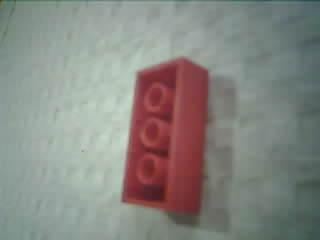lego: (120, 56, 209, 214)
